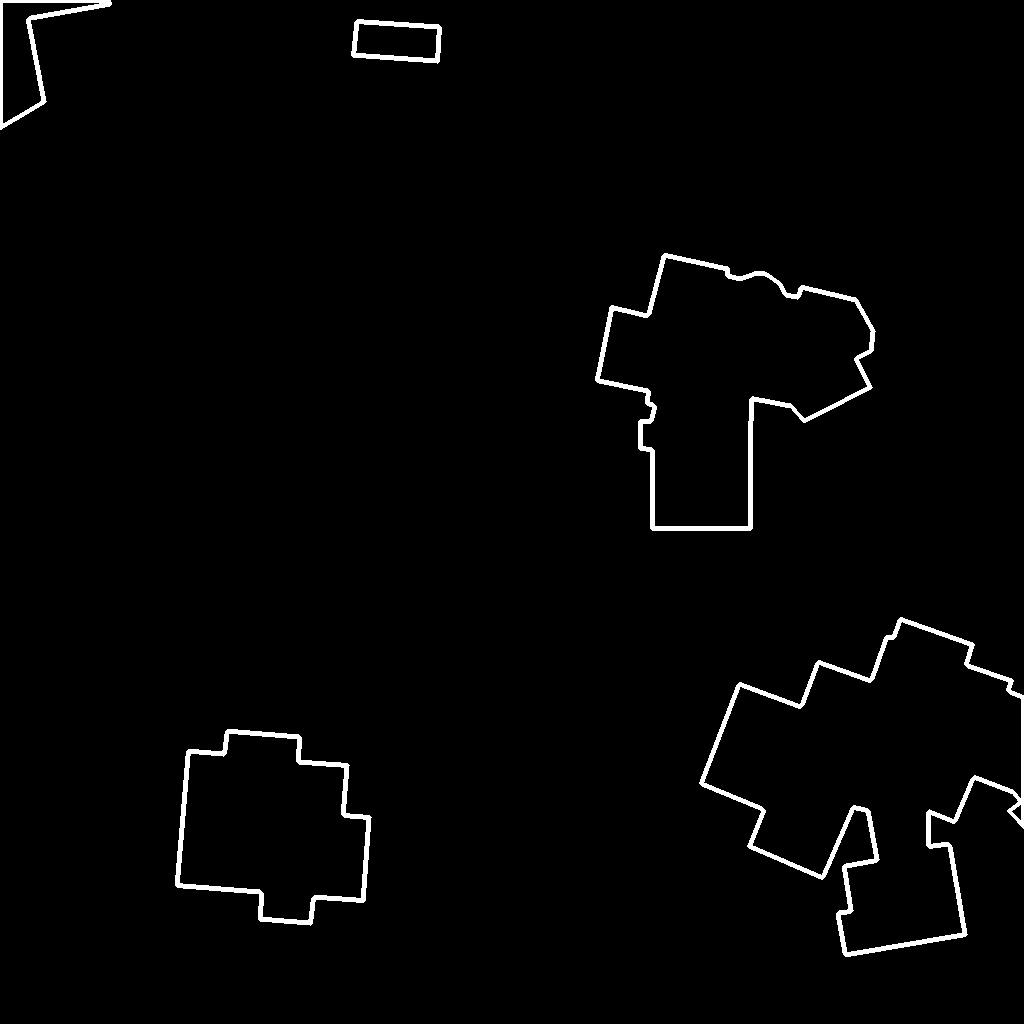building: (701, 619, 1024, 956), (597, 255, 874, 529), (177, 731, 370, 924), (0, 0, 111, 129), (353, 21, 441, 62)
